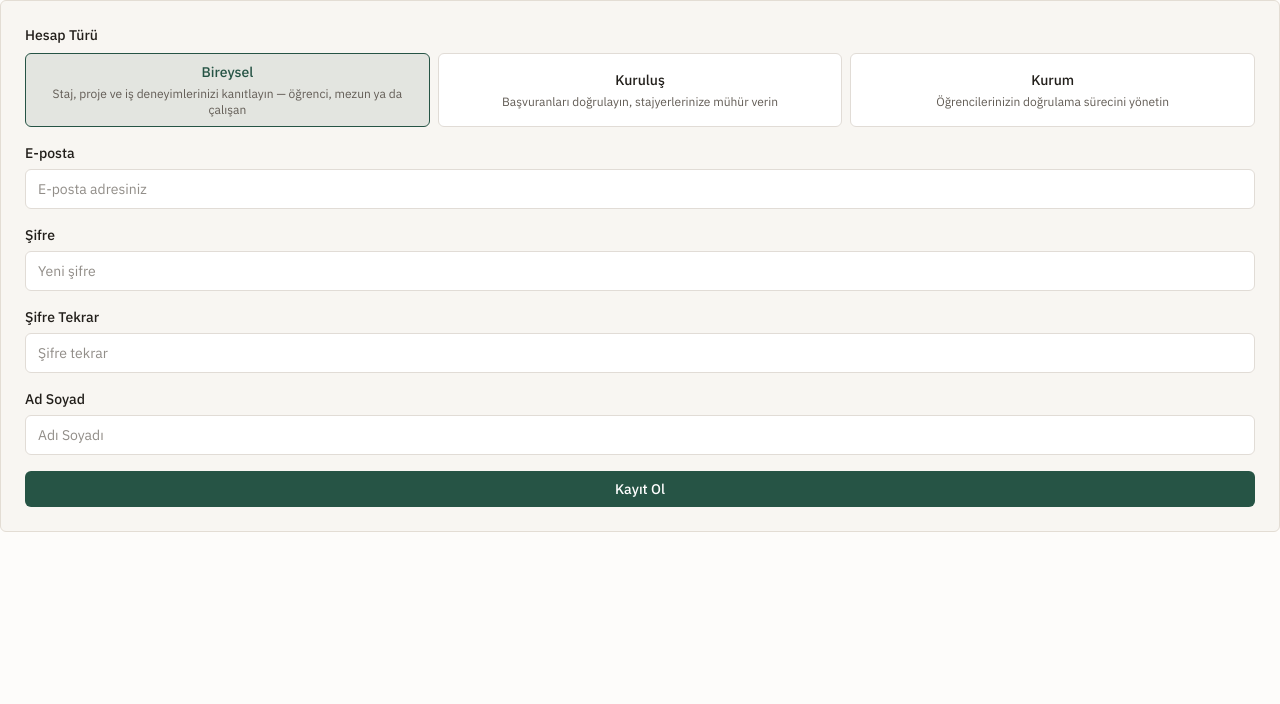
Scenario: RegisterForm — kuruluş kaydı › MERSİS ve belge alanları yalnız Kuruluş seçilince görünür
The width and height of the screenshot is (1280, 704).
Check: the field labelled "MERSİS Numarası" is not shown
Check: the field labelled "Ticaret Sicili Gazetesi veya Faaliyet Belgesi" is not shown
Click the radio button labelled "Kuruluş Başvuranları doğrulayın, stajyerlerinize mühür verin" at (640, 90), box [438,53,842,127]
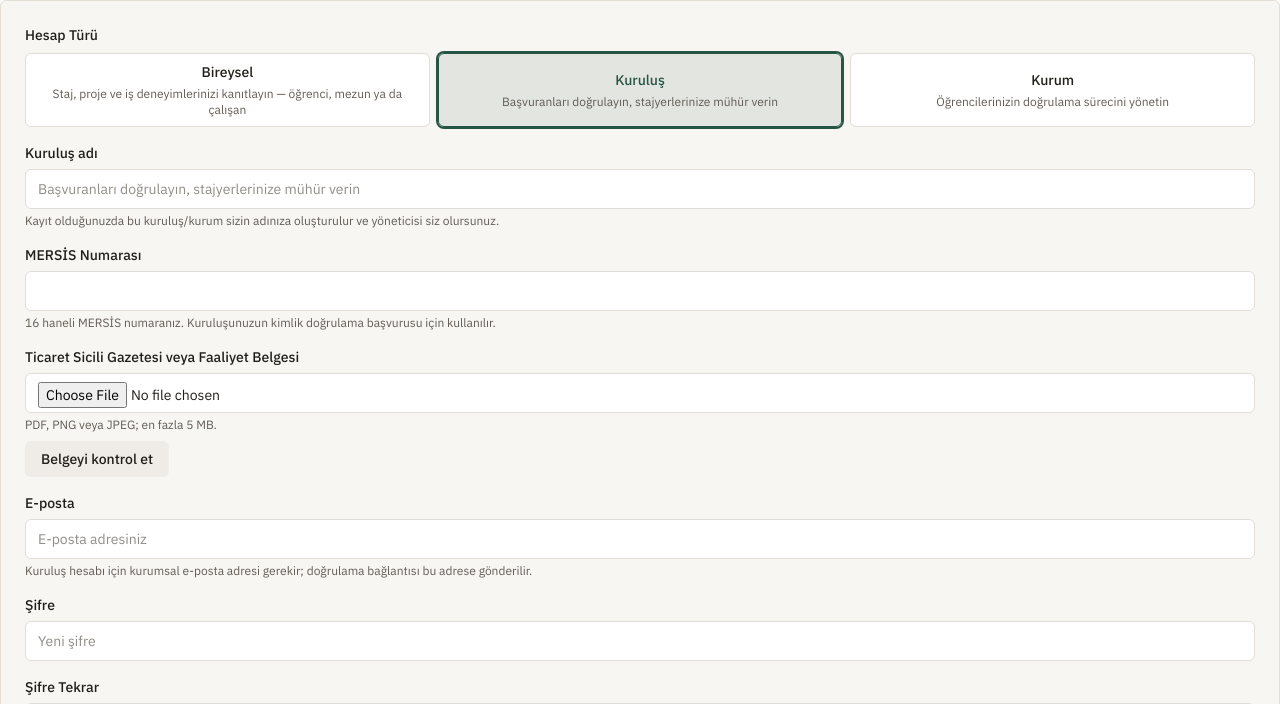
Check: the field labelled "MERSİS Numarası" is shown, box [25,271,1255,311]
Check: the file field labelled "Ticaret Sicili Gazetesi veya Faaliyet Belgesi" is shown, box [25,373,1255,413]
Check: the text "Kuruluş hesabı için kurumsal e-posta adresi gerekir; doğrulama bağlantısı bu adrese gönderilir." is shown, box [25,563,532,578]
Click the radio button labelled "Kurum Öğrencilerinizin doğrulama sürecini yönetin" at (1053, 90), box [850,53,1255,127]
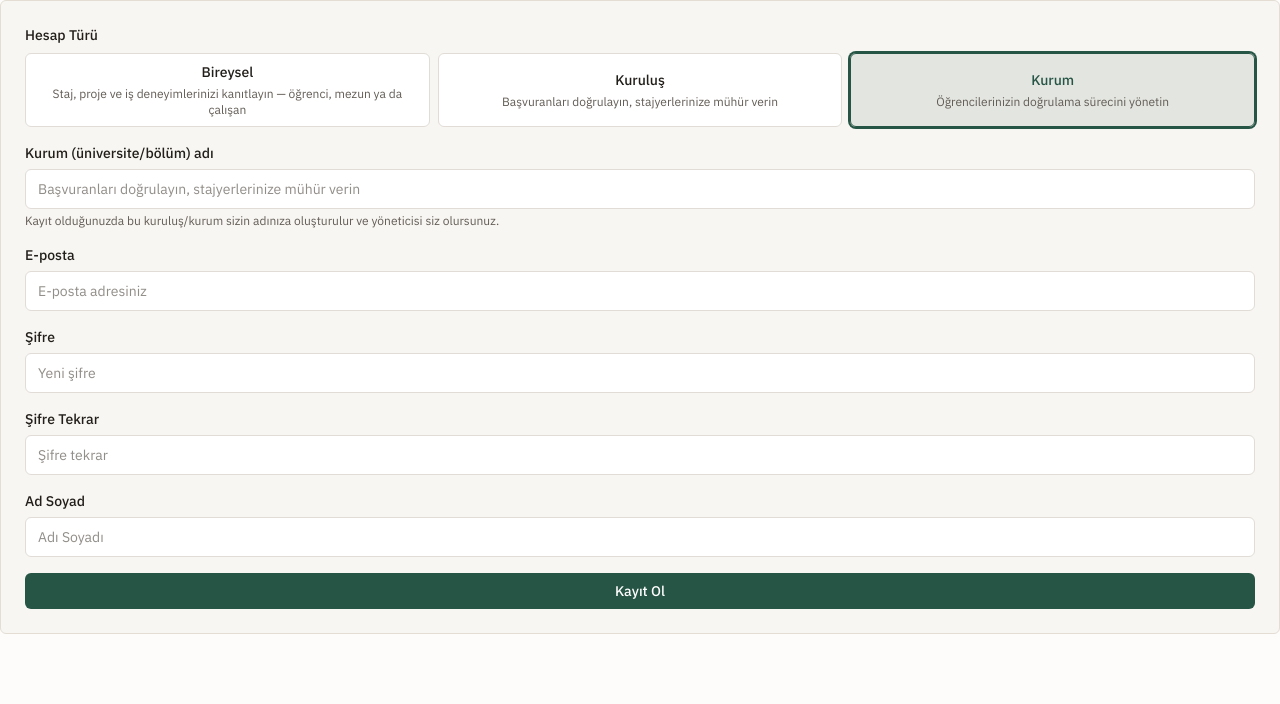
Check: the label labelled "MERSİS Numarası" is gone
